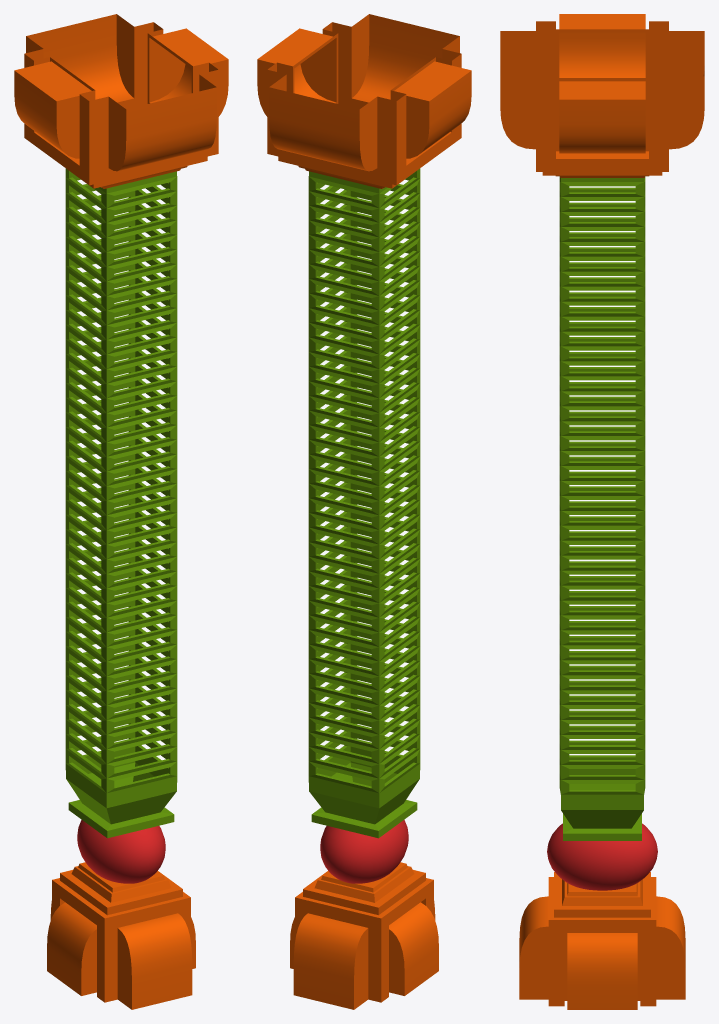
The model's file is Collumn.FBX.
3 renders of one model, left to right at view 1: azimuth 30°, elevation 25°; view 2: azimuth 150°, elevation 25°; view 3: azimuth 270°, elevation 25°, orthographic. The views are drawn at different scales.
Parts seen in each view (by area): view 1: Box009, Box011, Box010, Sphere002; view 2: Box009, Box011, Box010, Sphere002; view 3: Box009, Box011, Box010, Sphere002.
Part boxes in pixels (x1=…): Box009: x1=65, y1=168, x2=177, y2=838; Box011: x1=14, y1=14, x2=228, y2=188; Box010: x1=47, y1=862, x2=195, y2=1009; Sphere002: x1=77, y1=820, x2=165, y2=883; Box009: x1=308, y1=168, x2=420, y2=838; Box011: x1=257, y1=14, x2=471, y2=188; Box010: x1=290, y1=862, x2=438, y2=1009; Sphere002: x1=320, y1=820, x2=408, y2=883; Box009: x1=559, y1=176, x2=645, y2=840; Box011: x1=500, y1=14, x2=704, y2=177; Box010: x1=519, y1=872, x2=685, y2=1009; Sphere002: x1=547, y1=823, x2=657, y2=890.
Bounding box in the file's own units: 18.31 × 92.59 × 18.43.
